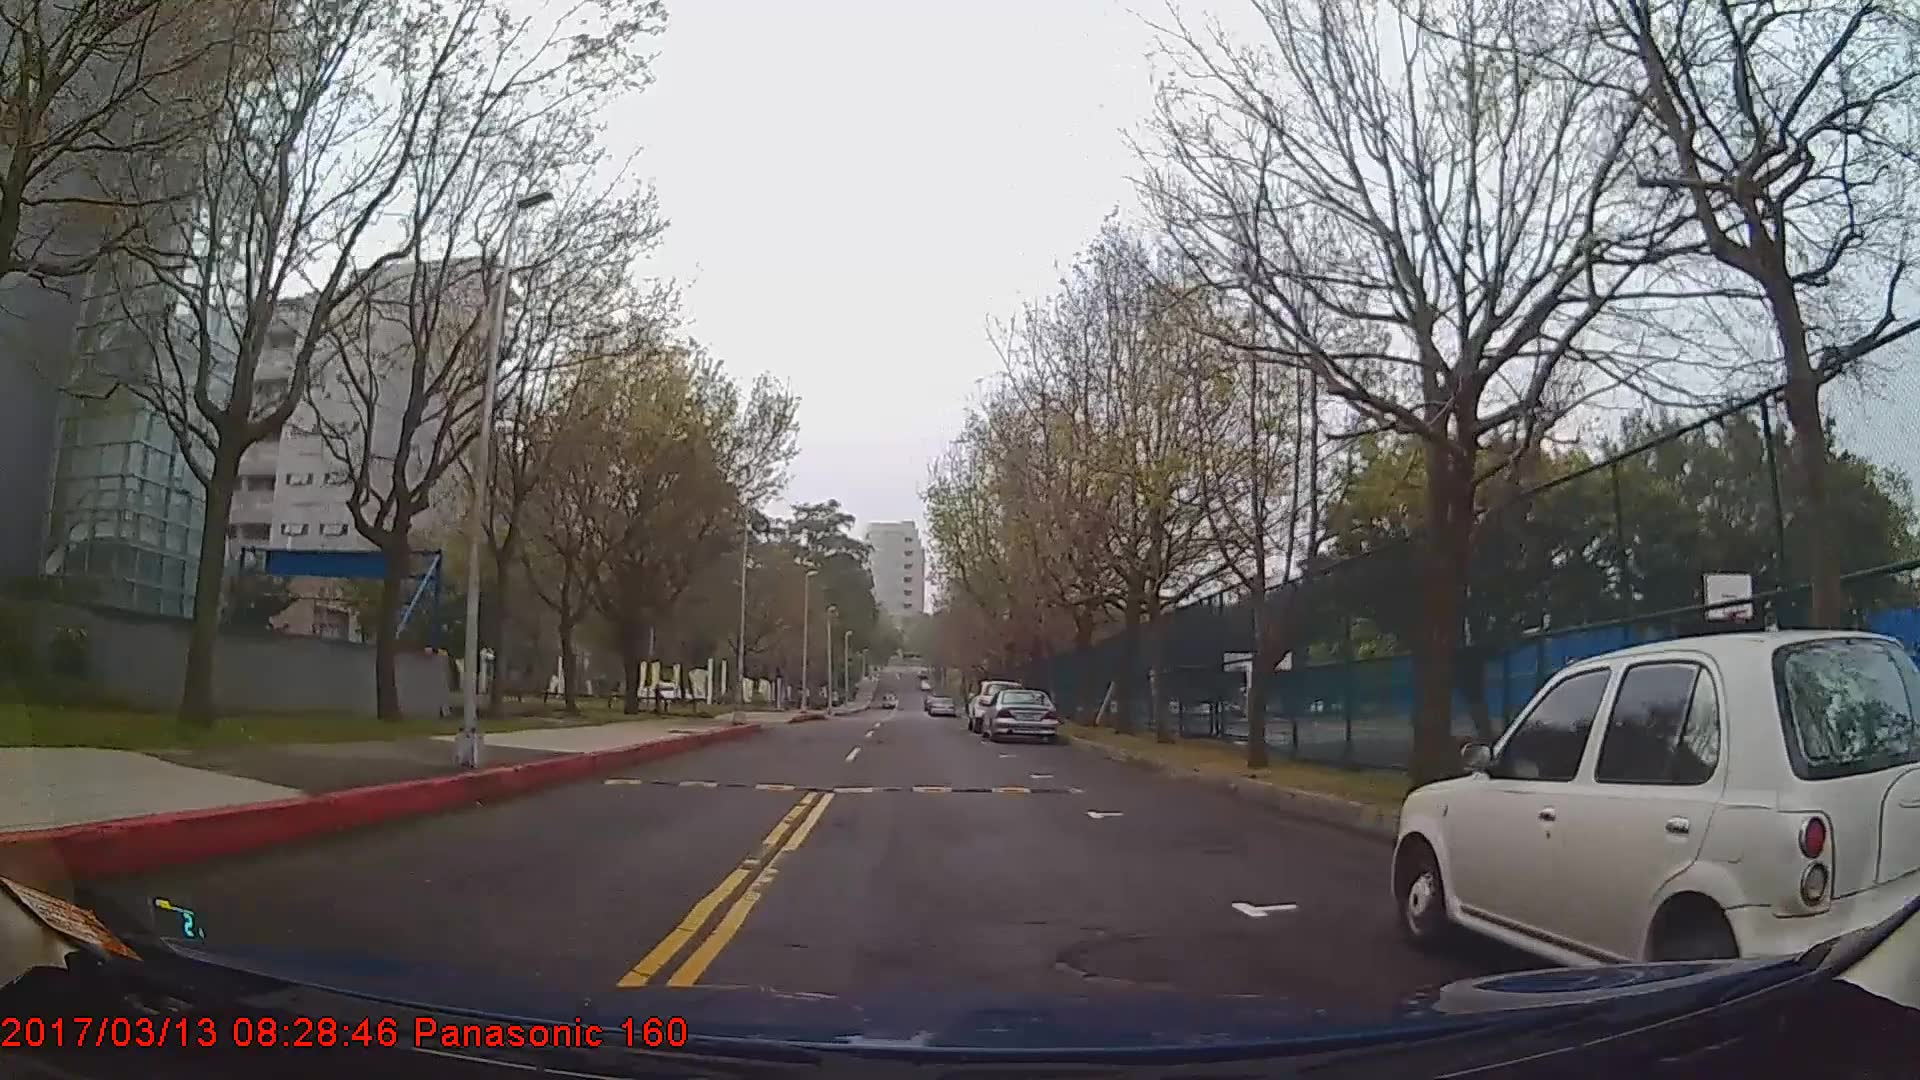vehicle: (1395, 628, 1905, 989), (980, 684, 1059, 740), (924, 694, 956, 719)
